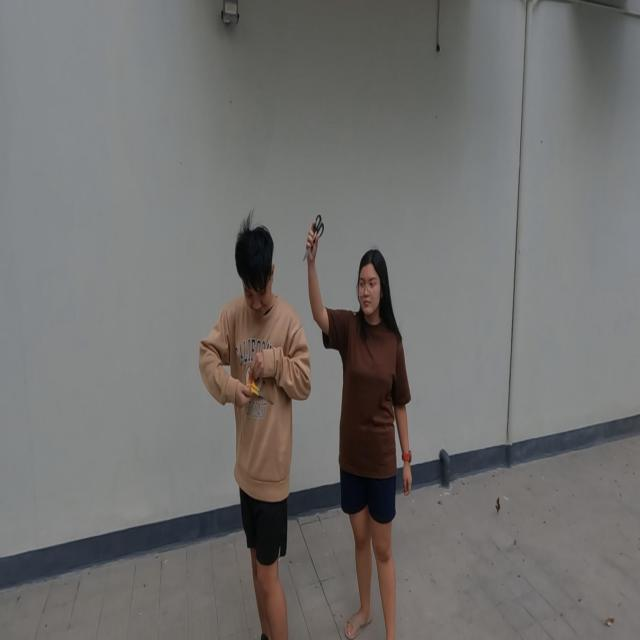scissor: (303, 216, 324, 262), (245, 373, 274, 406)
